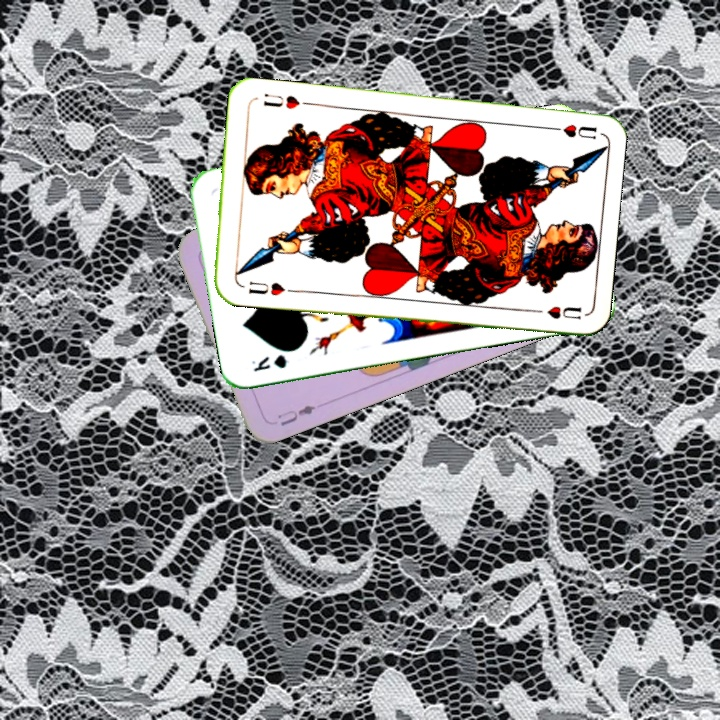EU: (273, 400, 318, 429)
GK: (247, 350, 293, 375)
HU: (541, 120, 600, 142), (244, 277, 287, 299)
